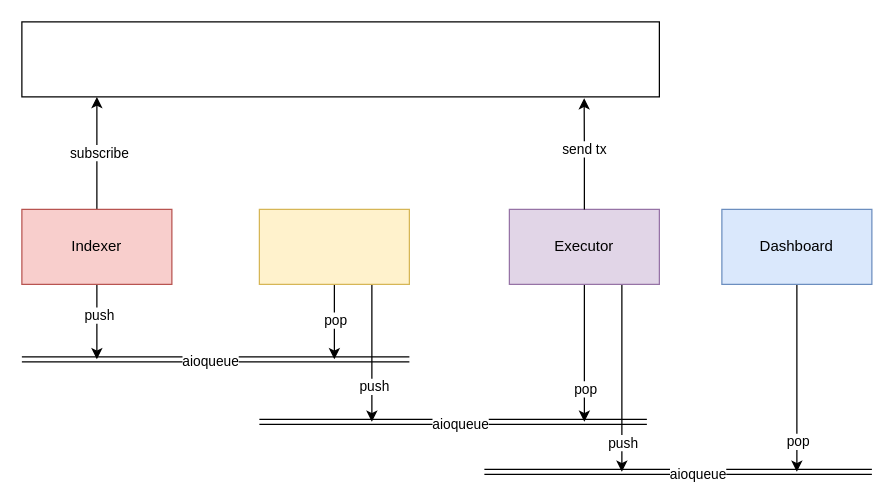
Some shapes in this 894 by 504 pixel diagram are drawn without their labels. Each missing label, with the centre of its shape:
"Inspector" belongs at [333,246].
"RPC endpoints" belongs at [340,59].
